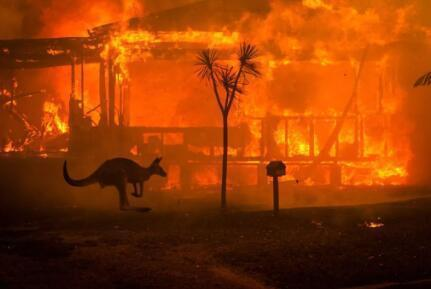fire: (9, 2, 424, 189)
